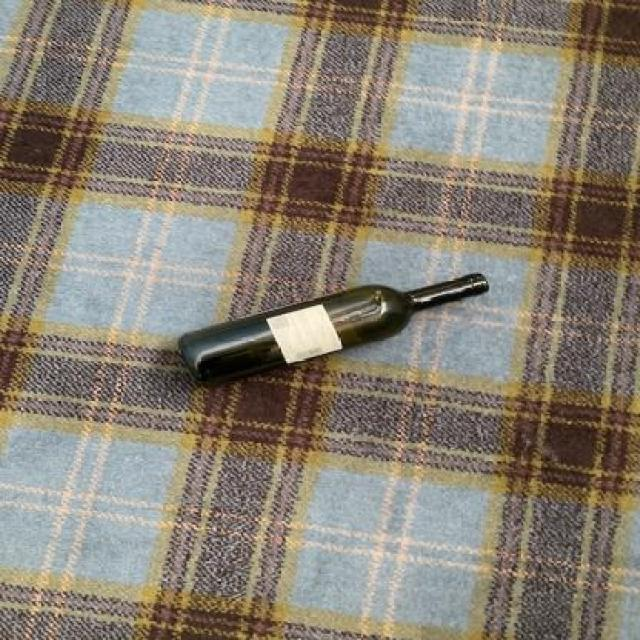trash: (176, 268, 495, 387)
